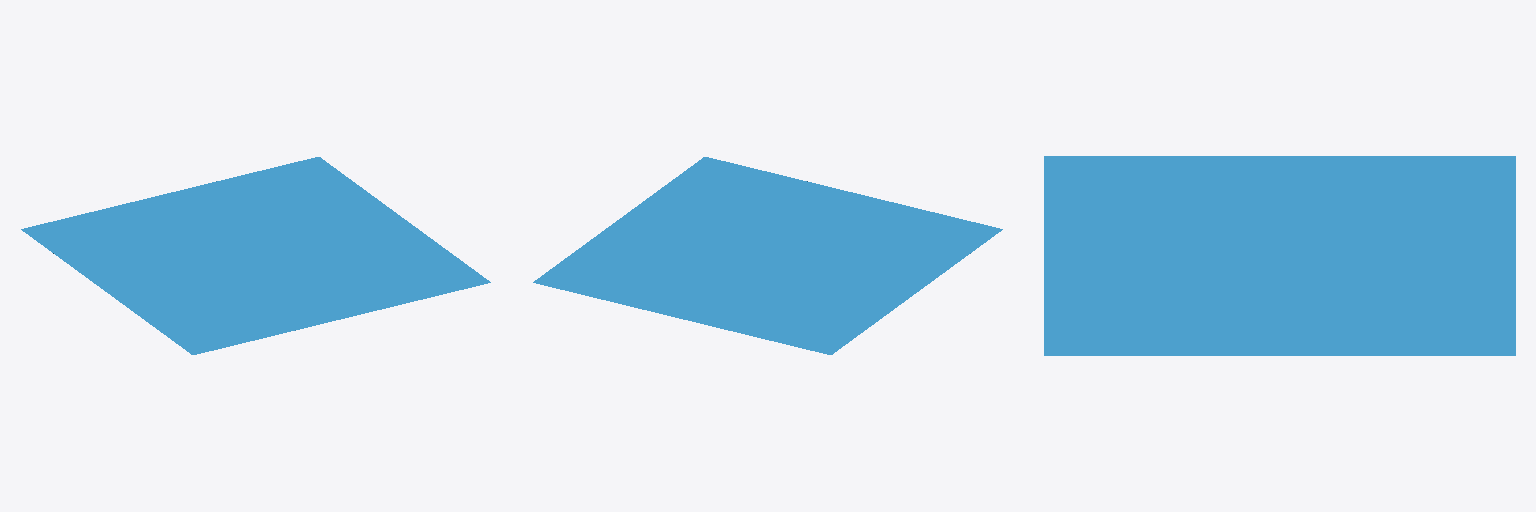
robot.urdf — simple_plane:
<?xml version="1.0" ?>
<robot name="simple_plane">
  
  <link name="world">
  </link>
  
  <link name="base_link">
      <contact>
        <!-- <lateral_friction value="0.3"/> -->
        <rolling_friction value="0.001"/>
        <!-- <anisotropic_friction value="0.8 2 0.1"/> -->
        <contact_cfm value="0.1"/>
        <contact_erp value="1.0"/>
       </contact>
        <visual> 
            <geometry> 
                <box size="1000 1000 0.01"/>
                <origin rpy="0 0 0" xyz="-20 -20 -0.01"/>
            </geometry>
            <material name="grey"/>
        </visual>
        <collision> 
             <geometry> 
                <box size="1000 1000 0.01"/>
                <origin rpy="0 0 0" xyz="-20 -20 -0.01"/>
            </geometry>
        </collision> 
        <inertial> 
            <mass value="0"/>
            <inertia ixx="0" ixy="0" ixz="0" iyy="0" iyz="0" izz="0"/>
        </inertial> 
    </link> 
  
  <joint name="plane_to_world" type="fixed">
    <parent link="world"/>
    <child link="base_link"/>
    <origin xyz="0 0 0" rpy="0 0 0"/>
  </joint>

</robot>

--- What the picture shows (computed from the rendered views, not written in the file) ---
Views: 3 orthographic renders of the robot side by side, from view 1: azimuth 30°, elevation 25°; view 2: azimuth 150°, elevation 25°; view 3: azimuth 270°, elevation 25°.
Robot: simple_plane — 2 links, 1 joints (1 fixed); root link world; default pose: every joint at zero.
Visible links, largest first — view 1: base_link; view 2: base_link; view 3: base_link.
Boxes of the visible links, box(x1,y1,x2,y2) form: base_link: box(21, 157, 490, 354); base_link: box(533, 157, 1002, 354); base_link: box(1044, 156, 1515, 355).
Size in the robot's own frame: 1000 by 1000 by 0.01 metres.
Geometry: primitives only (box / cylinder / sphere), no mesh files.
